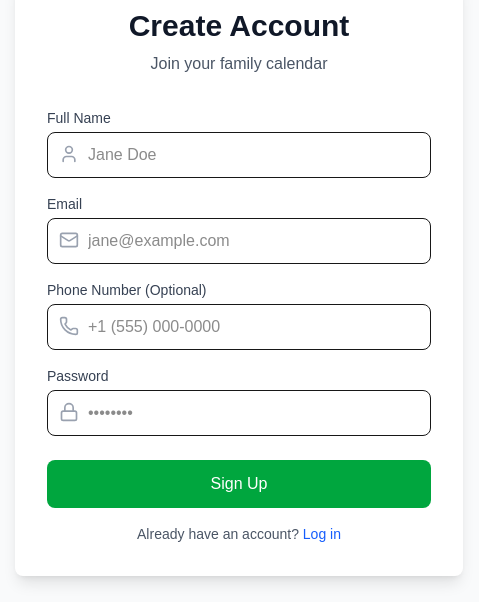
SignupPage › shows loading state during submission
Type "Test" into the field with placeholder "Jane Doe".
click(239, 155); type("Test")  # box [47,132,431,178]
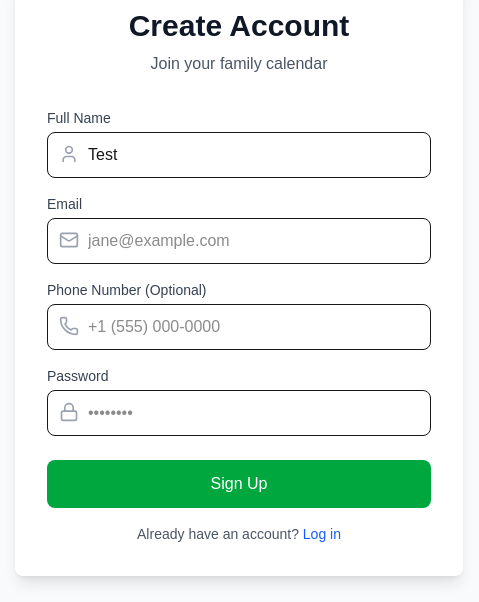
Type "test@test.com" into the field with placeholder "jane@example.com".
click(239, 241); type("test@test.com")  # box [47,218,431,264]
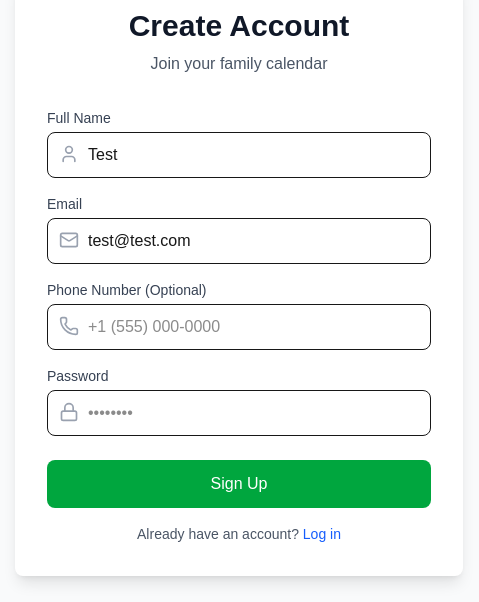
Type "pass" into the password field with placeholder "••••••••".
click(239, 413); type("pass")  # box [47,390,431,436]
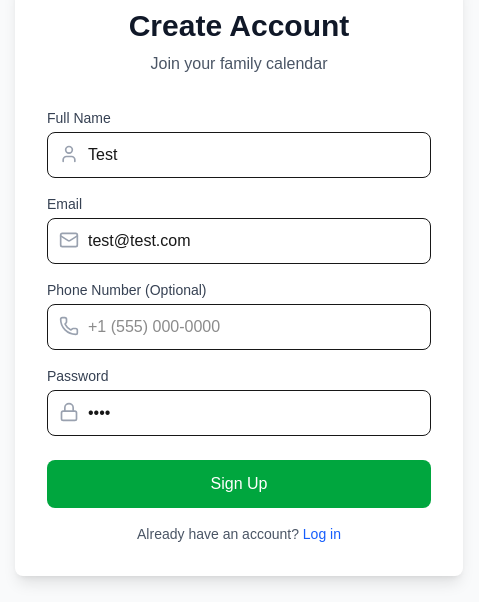
Click the button "Sign Up".
click(239, 484)  # box [47,460,431,508]
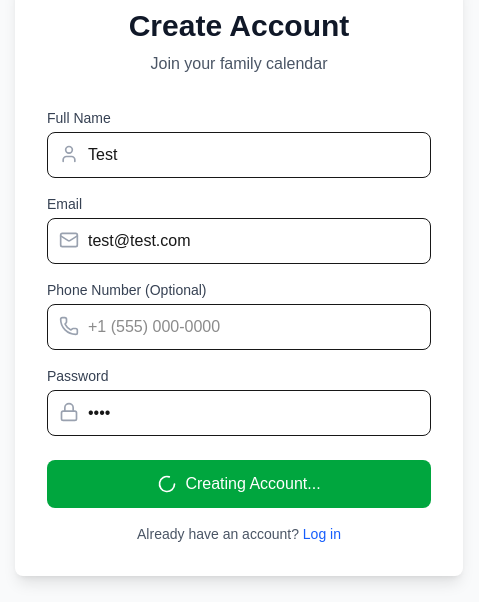
Check: the button "Creating Account..." is shown, box [47,460,431,508]
